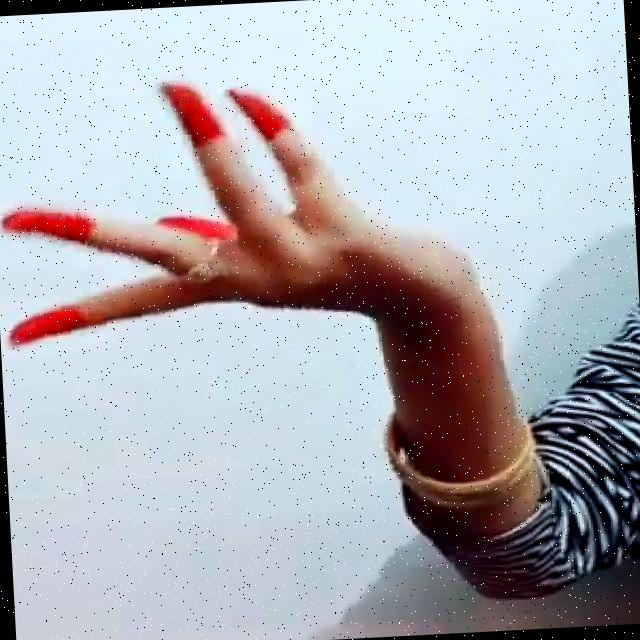Alapadma: (0, 70, 455, 360)
bangle: (363, 404, 557, 526)
